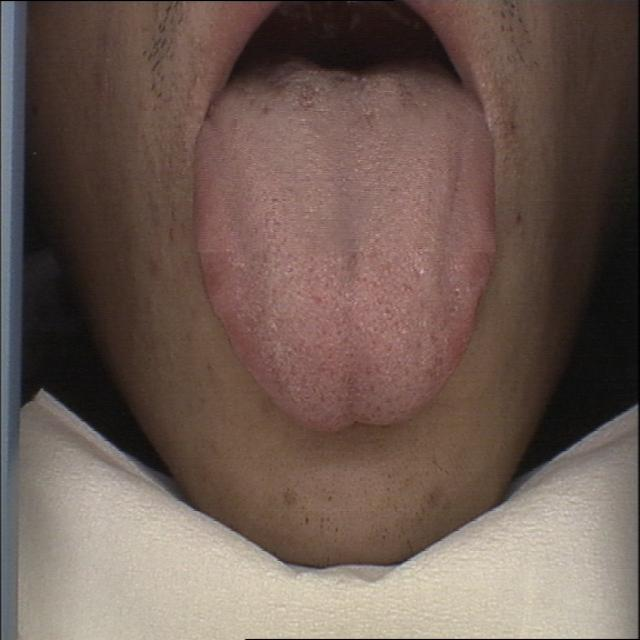tongue: (189, 71, 504, 437)
